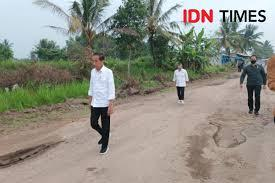Pothole: (199, 108, 275, 168)
